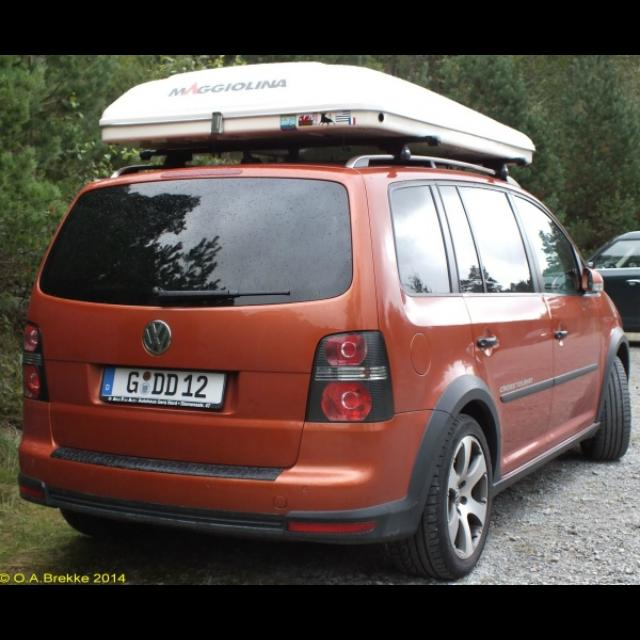d_license_plate: (101, 366, 223, 402)
